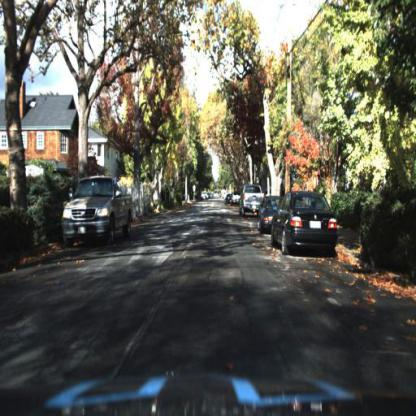car: (63, 178, 132, 248), (272, 191, 336, 248), (240, 183, 267, 222), (258, 192, 276, 238), (241, 184, 261, 218), (227, 195, 235, 209)
